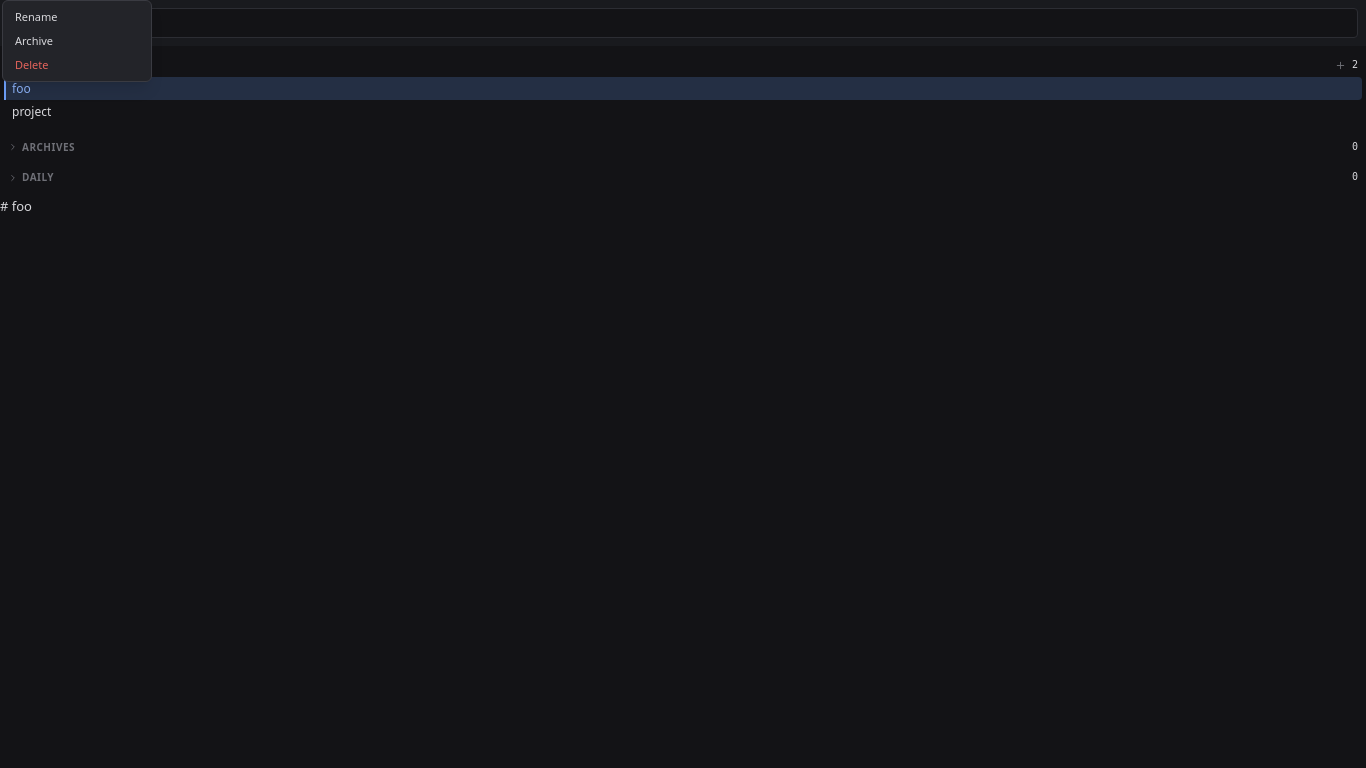
Test: DeleteNoteDialog › deleting the open document cancels autosave and leaves
Click the menu item "Delete" at (32, 64), box [15,57,48,72]
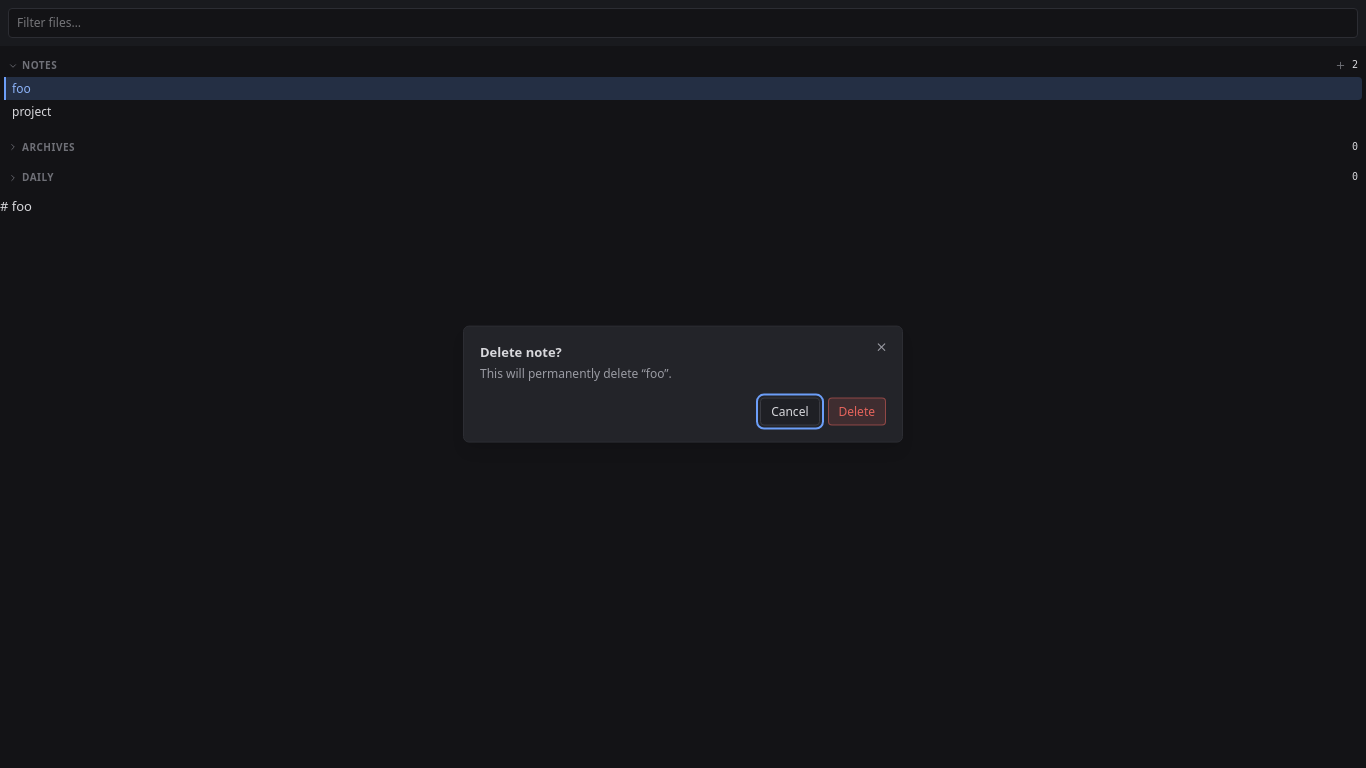
Expected: the heading "Delete note?" is shown, [480,343,562,361]
Click the button with test id "delete-note-confirm" at (857, 411), box [828,397,886,425]
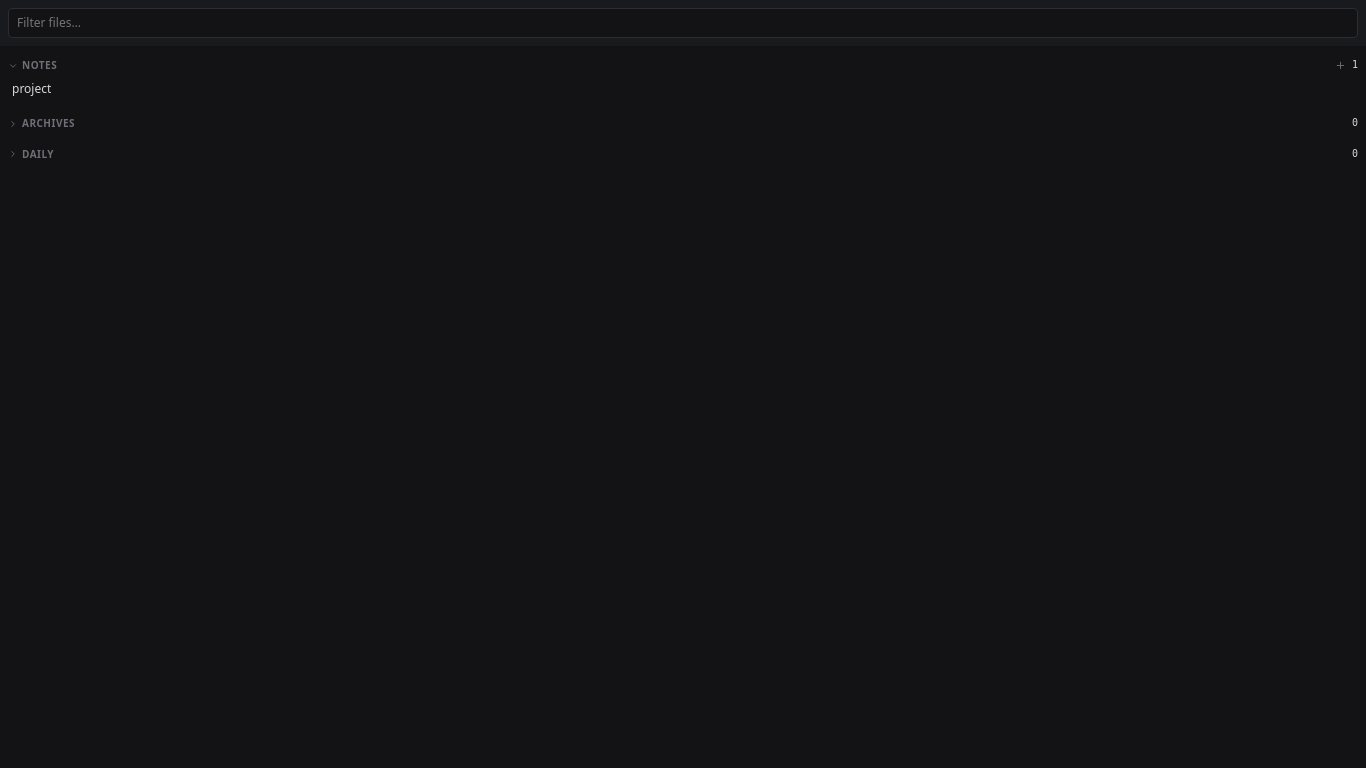
Expected: the heading "Delete note?" is gone
